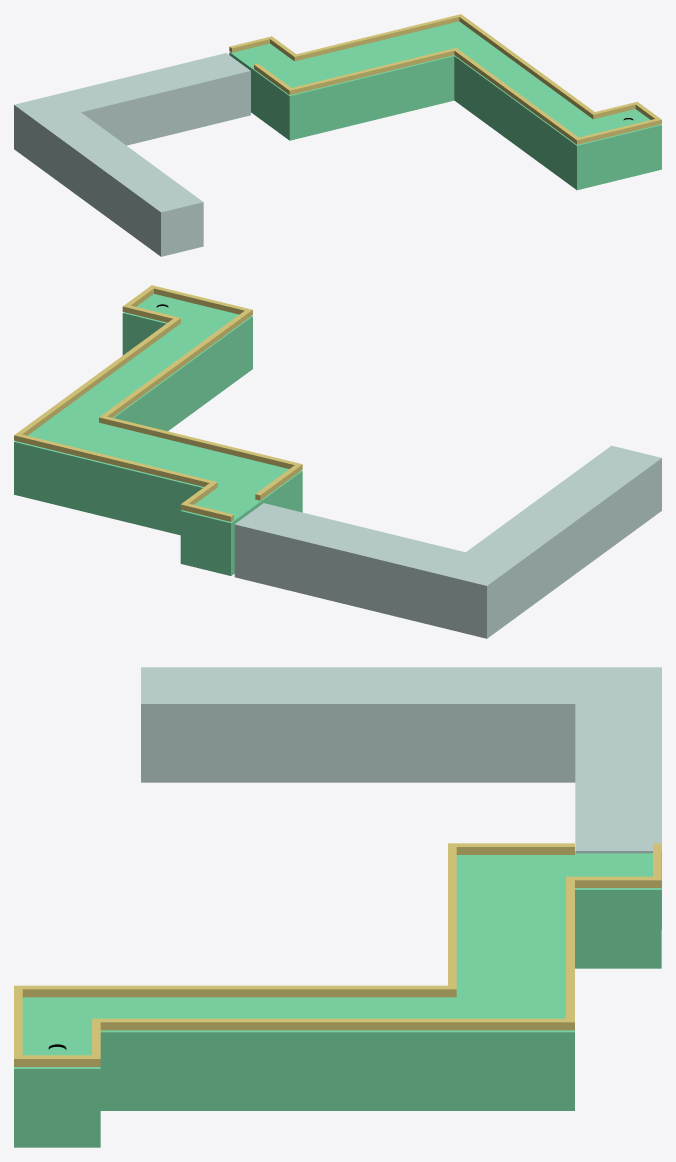
File: course-1.gltf
3 views of the same model, one above another, from view 1: azimuth 30°, elevation 25°; view 2: azimuth 150°, elevation 25°; view 3: azimuth 270°, elevation 25° (orthographic). The views are drawn at different scales.
Visible parts, largest first — view 1: PuttZone, Sidewalk, Bounds; view 2: Sidewalk, PuttZone, Bounds; view 3: PuttZone, Sidewalk, Bounds.
Boxes of the visible parts, x1,y1,x2,y2 form: PuttZone: [229, 21, 661, 190]; Sidewalk: [14, 53, 250, 256]; Bounds: [229, 14, 661, 144]; Sidewalk: [234, 445, 661, 638]; PuttZone: [14, 294, 302, 575]; Bounds: [14, 285, 302, 521]; PuttZone: [14, 853, 661, 1147]; Sidewalk: [141, 667, 661, 929]; Bounds: [14, 843, 661, 1066].
Bounding box in the file's own units: 21.89 × 2.25 × 14.93.
